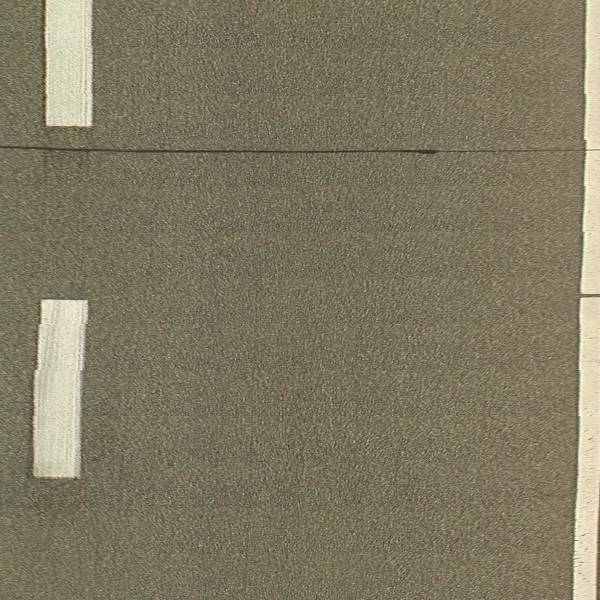road_damage: (24, 146, 582, 155)
